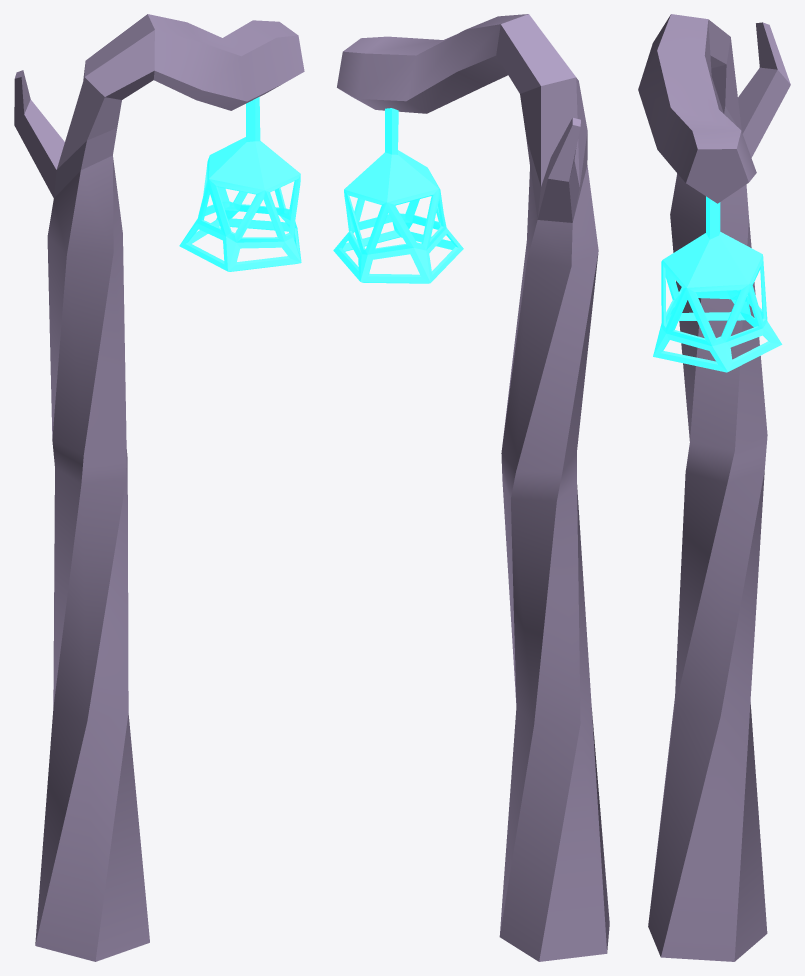
File: ENV_Lamppost3.fbx
3 renders of one model, left to right at view 1: azimuth 30°, elevation 25°; view 2: azimuth 150°, elevation 25°; view 3: azimuth 270°, elevation 25°, orthographic. The views are drawn at different scales.
Parts seen in each view (by area): view 1: Checkpoint_Lamp.001, Checkpoint_Lamp.002; view 2: Checkpoint_Lamp.001, Checkpoint_Lamp.002; view 3: Checkpoint_Lamp.001, Checkpoint_Lamp.002.
Part boxes in pixels (<box>): Checkpoint_Lamp.001: <box>14,14,304,961</box>; Checkpoint_Lamp.002: <box>179,97,301,271</box>; Checkpoint_Lamp.001: <box>337,14,609,961</box>; Checkpoint_Lamp.002: <box>333,108,463,283</box>; Checkpoint_Lamp.001: <box>638,14,790,961</box>; Checkpoint_Lamp.002: <box>653,196,782,372</box>.
Size of the model in its own units: 185 by 87.06 by 596.
